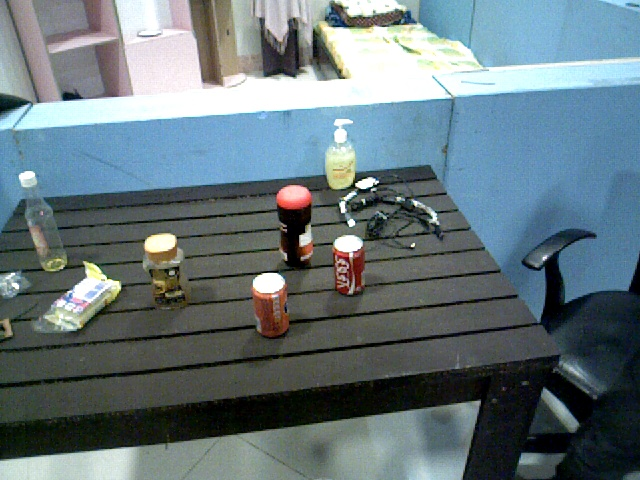coca: (332, 234, 367, 299)
coffee: (142, 232, 194, 313)
cream: (277, 183, 317, 273)
fanta: (256, 269, 293, 339)
